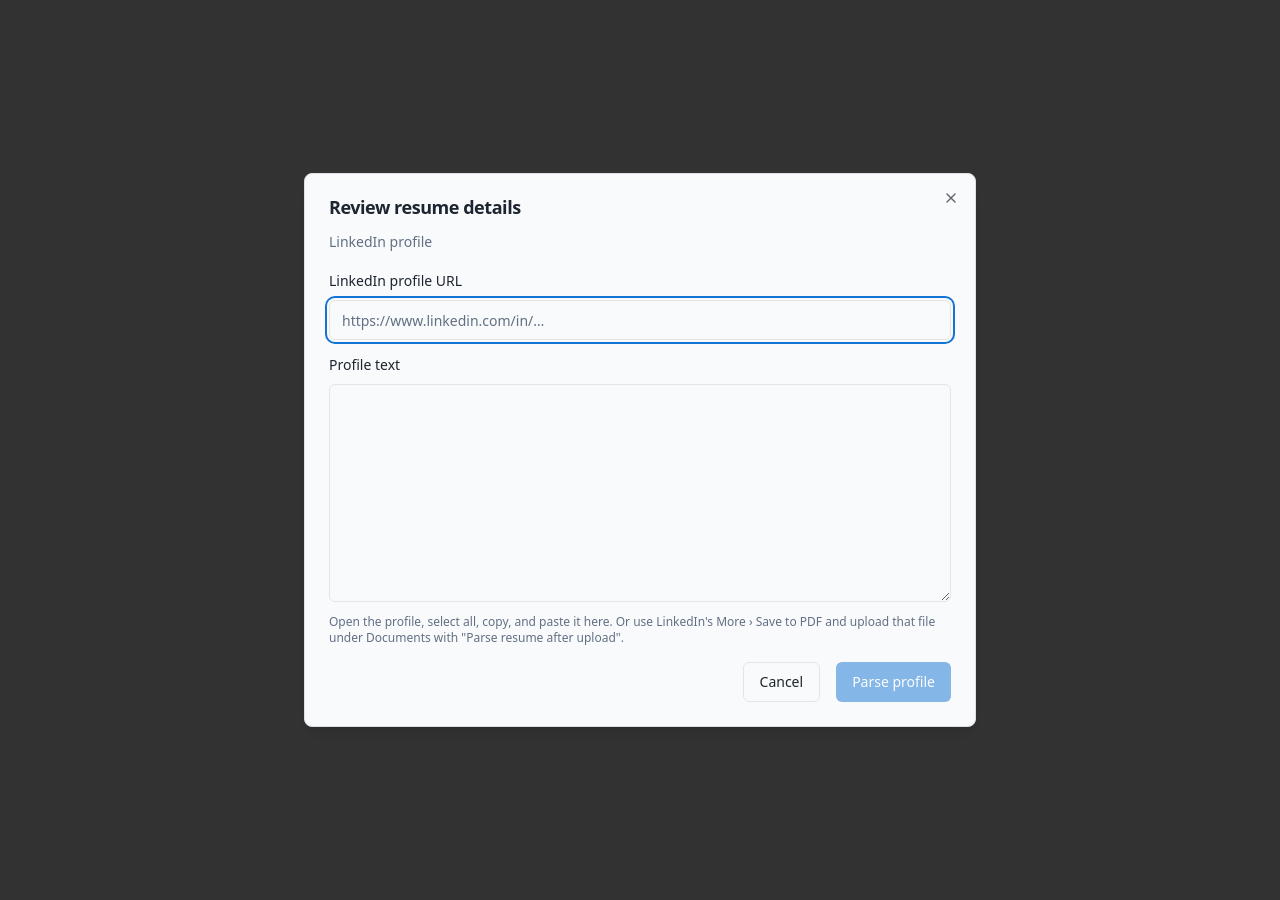
Test case: parses a pasted LinkedIn profile and proposes only new roles
Later steps or results of the test are not shown.
Check: the button "Parse profile" is disabled, box top-left (836, 662), bottom-right (951, 702)
Type "linkedin.com/in/sample-person" into the field labelled "LinkedIn profile URL" at (640, 320), box top-left (329, 300), bottom-right (951, 340)
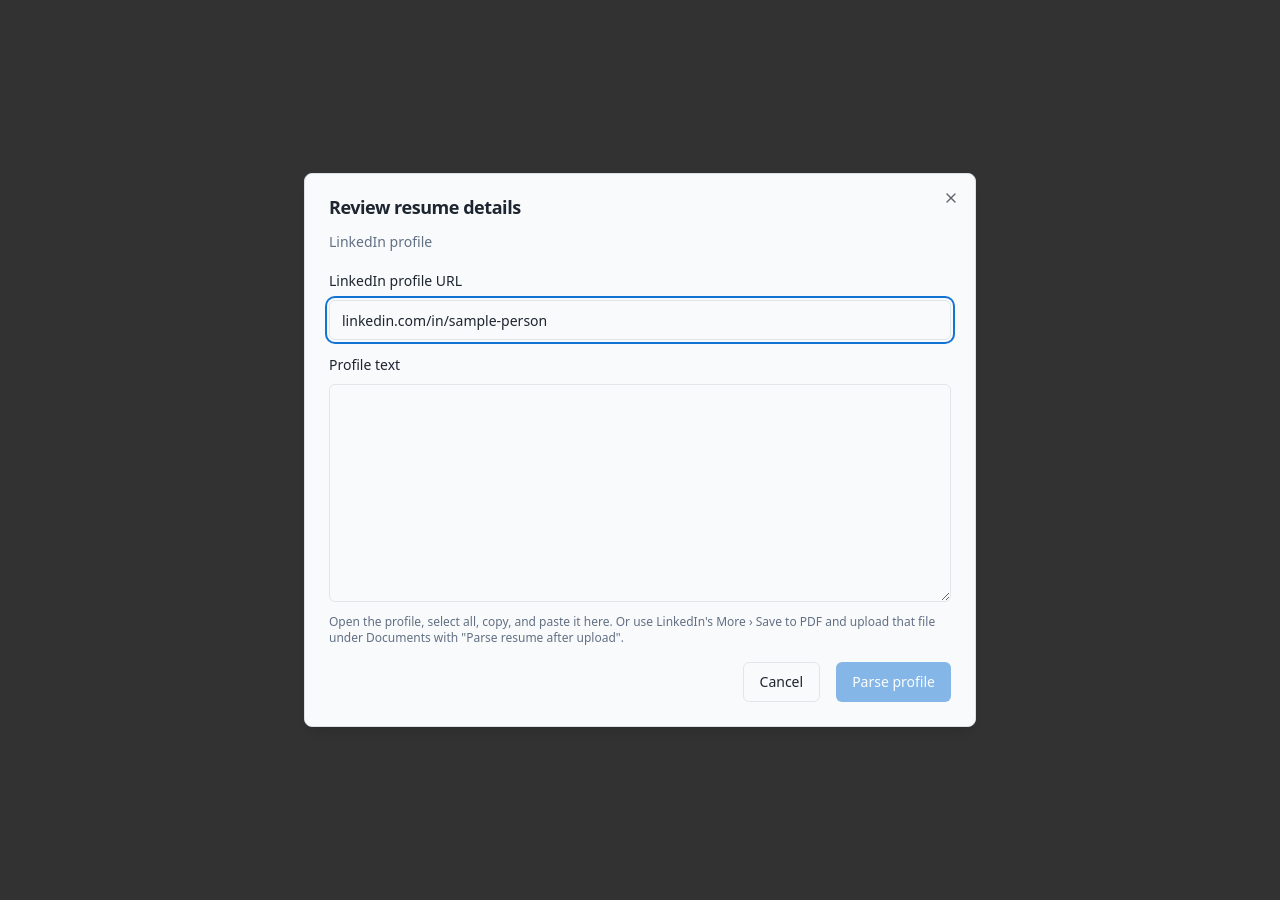
Type "Sample Person · Scrum Master at Example Co" into the text box labelled "Profile text" at (640, 493), box top-left (329, 384), bottom-right (951, 602)
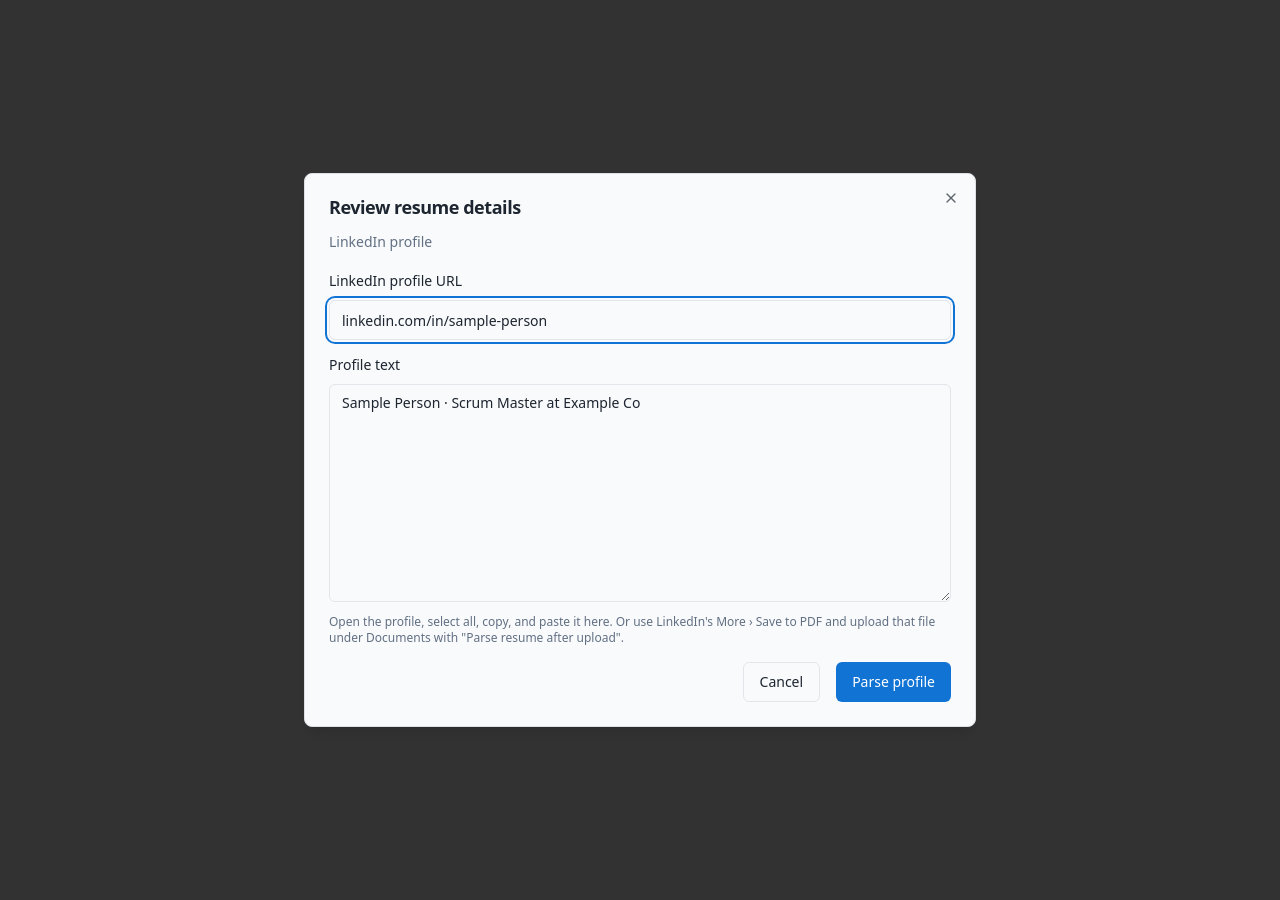
Click the button "Parse profile" at (894, 682), box top-left (836, 662), bottom-right (951, 702)
(page scrolled)
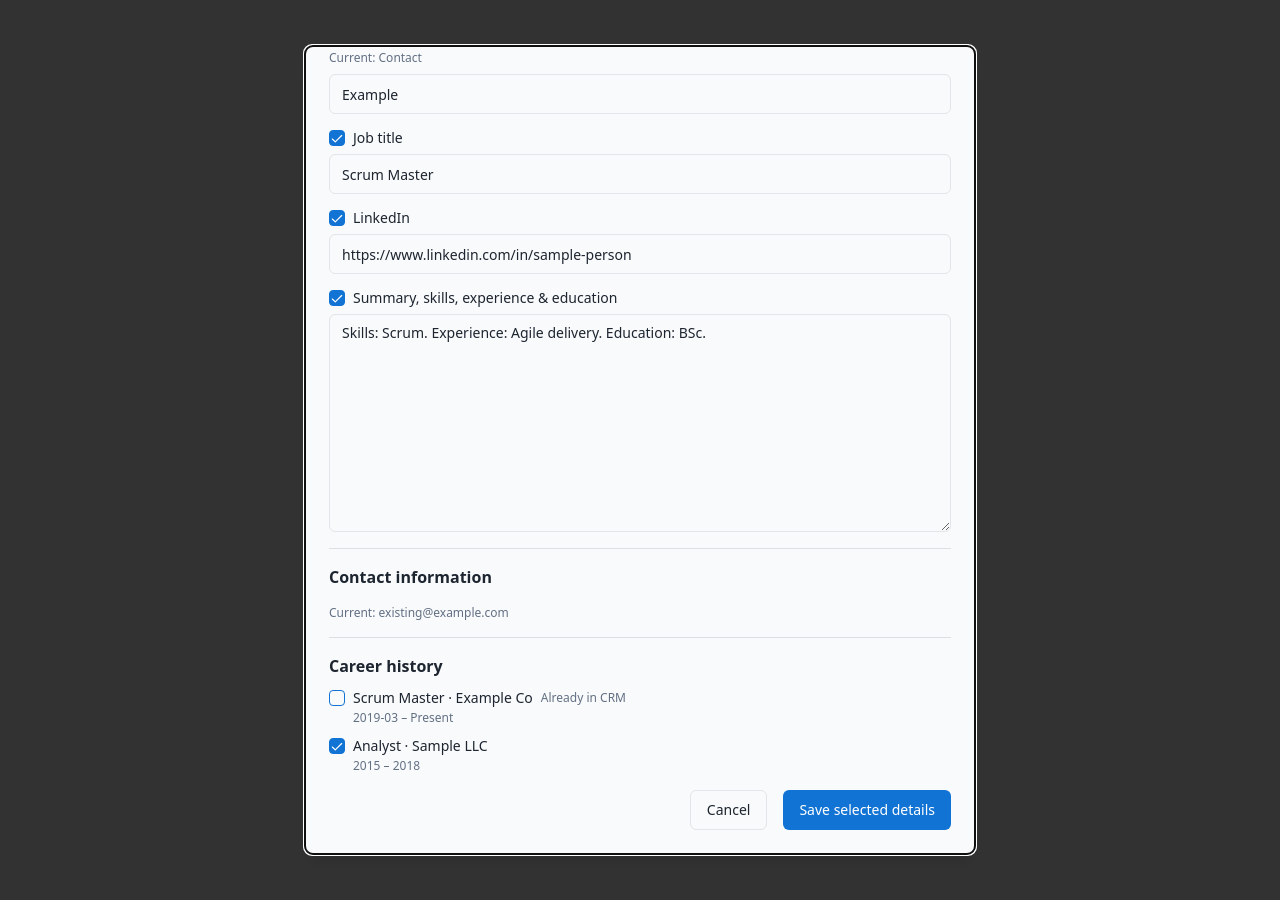
Check: the text "Already in CRM" is shown, box top-left (541, 690), bottom-right (626, 706)
Check: the checkbox named "Analyst · Sample LLC" next to "Analyst · Sample LLC" is checked, box top-left (329, 738), bottom-right (345, 754)
